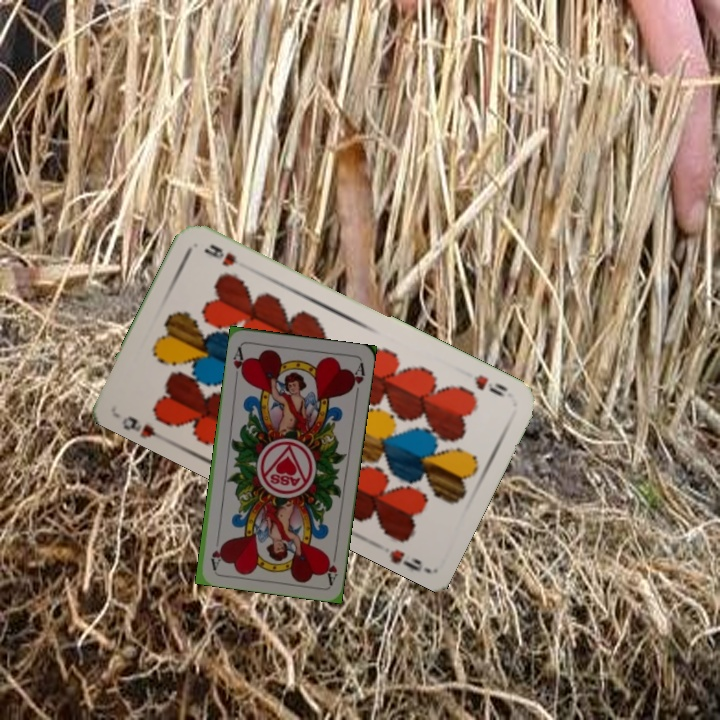H9: (118, 412, 168, 441), (470, 371, 510, 400)
HA: (229, 343, 248, 383), (321, 546, 340, 586)
